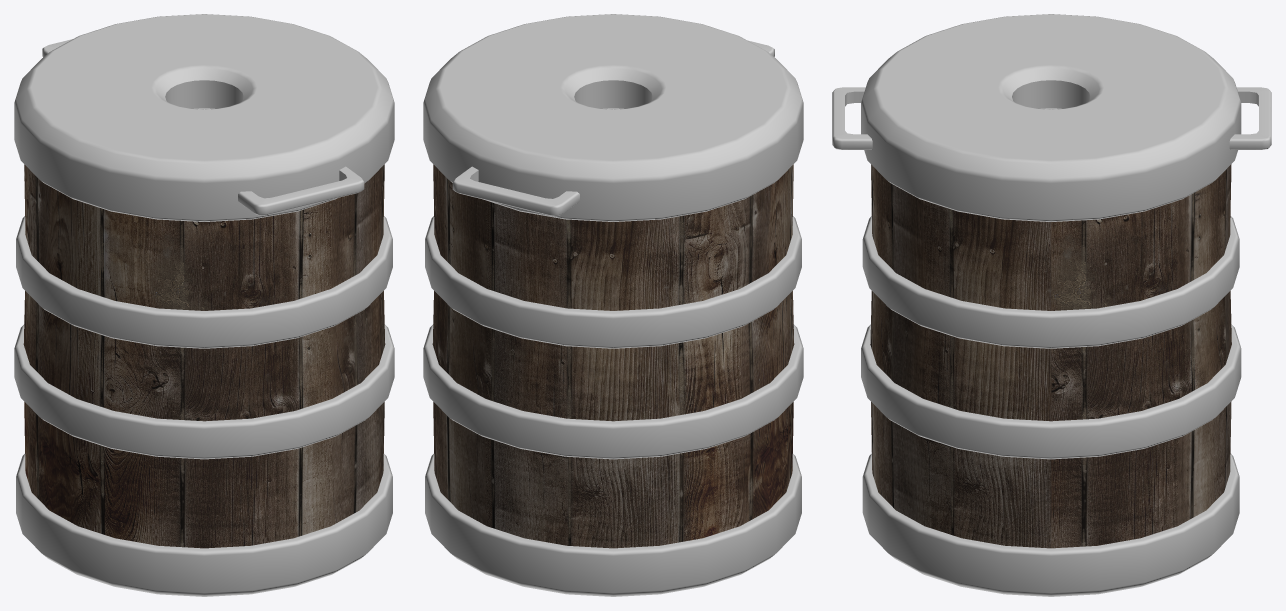
The model's file is SM_Wooden_Barrel_02a.fbx.
3 renders of one model, left to right at view 1: azimuth 30°, elevation 25°; view 2: azimuth 150°, elevation 25°; view 3: azimuth 270°, elevation 25°, orthographic.
Parts seen in each view (by area): view 1: SM_Wooden_Barrel_02a_LOD0; view 2: SM_Wooden_Barrel_02a_LOD0; view 3: SM_Wooden_Barrel_02a_LOD0.
Boxes of the visible parts, box(x1,y1,x2,y2) form: SM_Wooden_Barrel_02a_LOD0: box(14, 14, 394, 596); SM_Wooden_Barrel_02a_LOD0: box(423, 14, 803, 596); SM_Wooden_Barrel_02a_LOD0: box(832, 14, 1271, 596).
Bounding box in the file's own units: 60.46 × 69.83 × 75.98.
